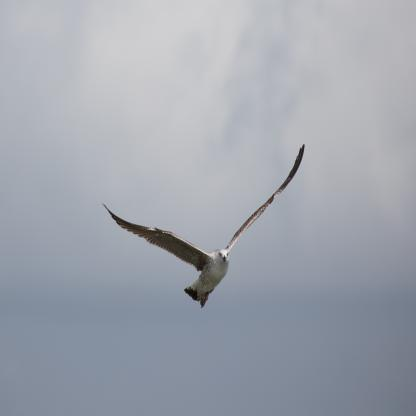bird: (102, 142, 306, 310)
